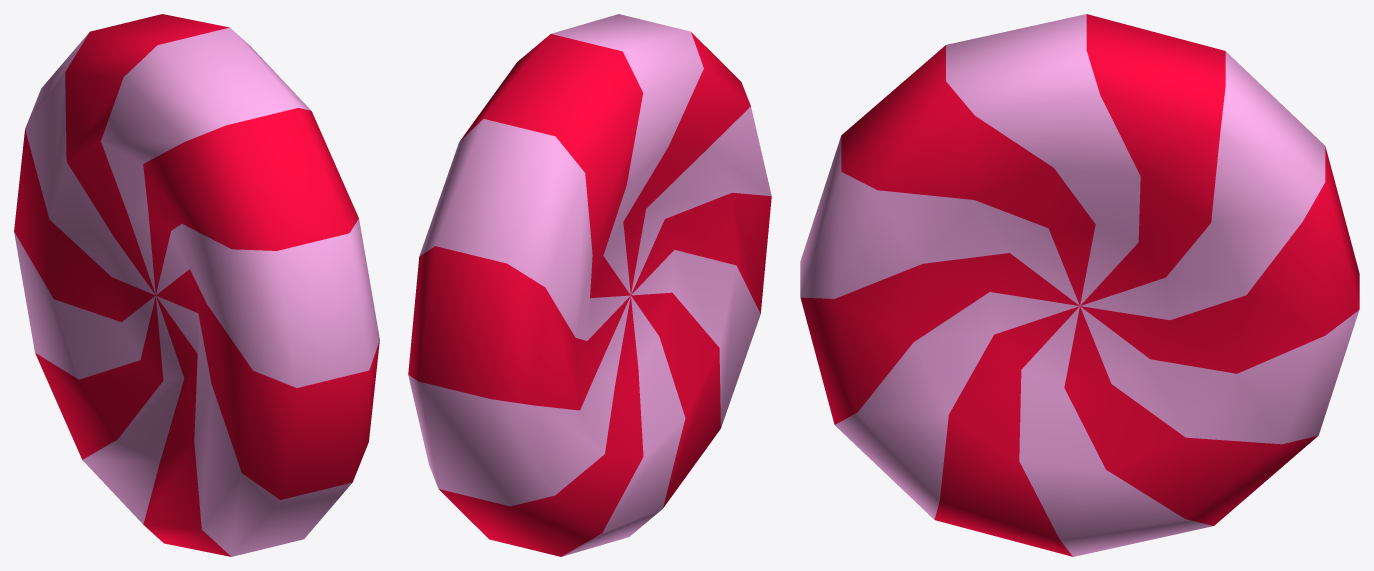
File: candy.fbx
3 views of the same model, side by side, from view 1: azimuth 30°, elevation 25°; view 2: azimuth 150°, elevation 25°; view 3: azimuth 270°, elevation 25° (orthographic). The views are drawn at different scales.
Visible parts, largest first — view 1: candy; view 2: candy; view 3: candy.
Boxes of the visible parts, x1,y1,x2,y2 form: candy: (14, 14, 379, 556); candy: (408, 14, 771, 556); candy: (800, 14, 1359, 556).
Size of the model in its own units: 56.42 by 200 by 200.
